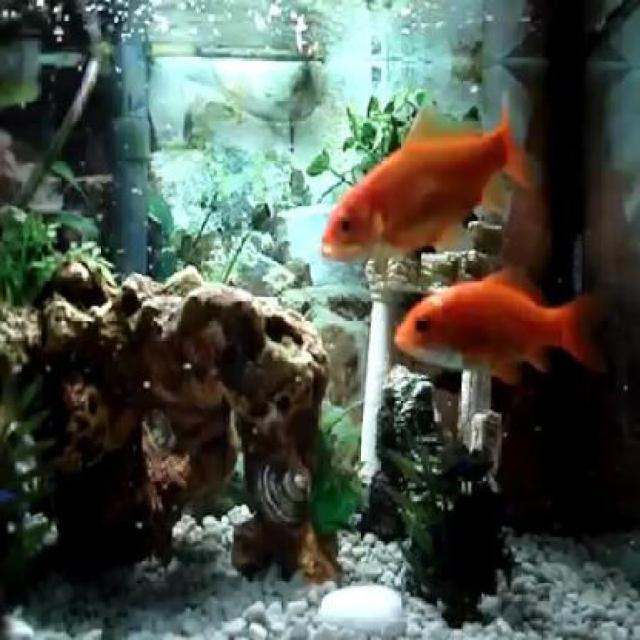GoldFish: (317, 96, 528, 252), (397, 256, 592, 386)
